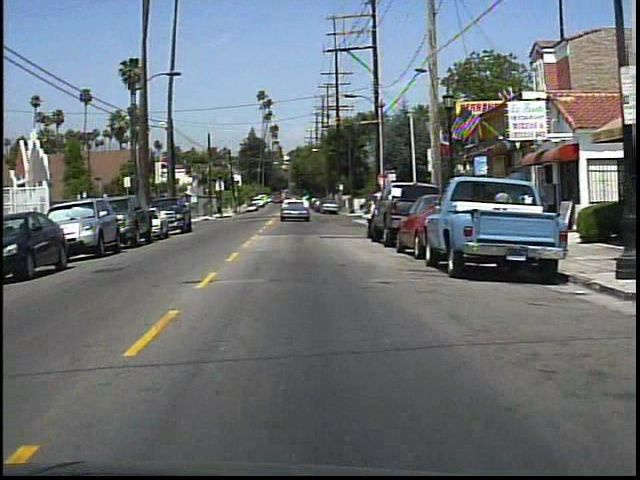person: (493, 182, 518, 234)
